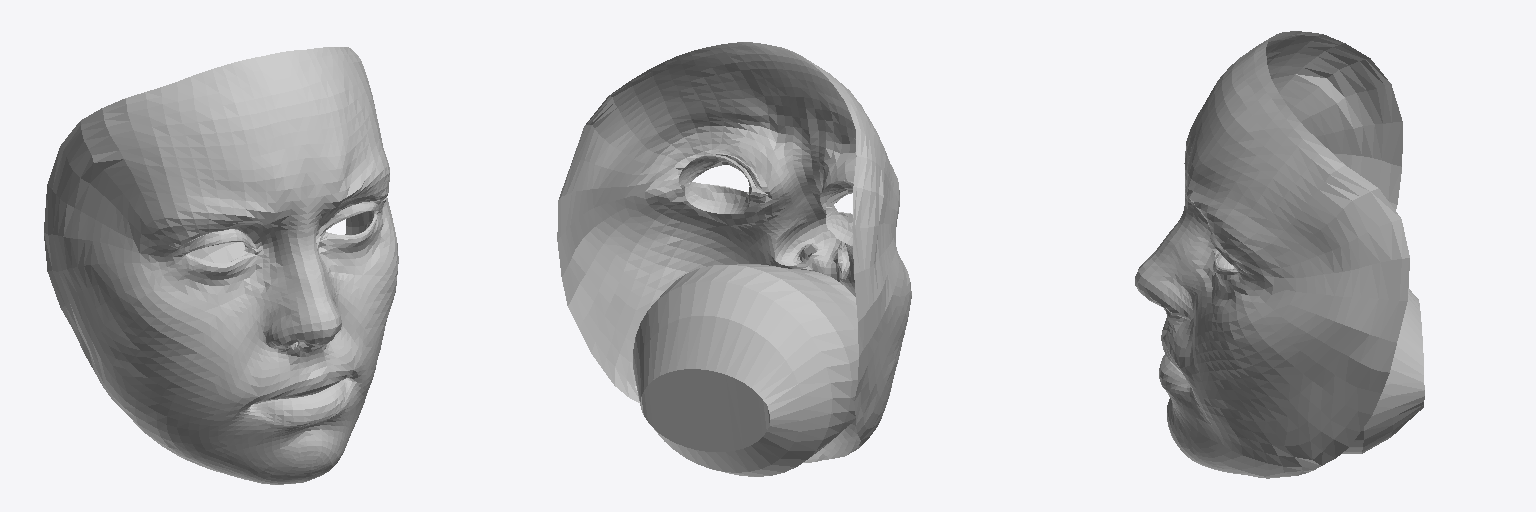
The model's file is Brow_lower.obj.
3 renders of one model, left to right at view 1: azimuth 30°, elevation 25°; view 2: azimuth 150°, elevation 25°; view 3: azimuth 270°, elevation 25°, orthographic.
Visible parts, largest first — view 1: face geoGroup Emily; view 2: face geoGroup Emily; view 3: face geoGroup Emily.
Part boxes in pixels (left/top/right/bottom): face geoGroup Emily: left=44, top=47, right=398, bottom=484; face geoGroup Emily: left=557, top=42, right=911, bottom=476; face geoGroup Emily: left=1135, top=31, right=1424, bottom=478.
Size of the model in its own units: 14.25 by 18.38 by 11.78.